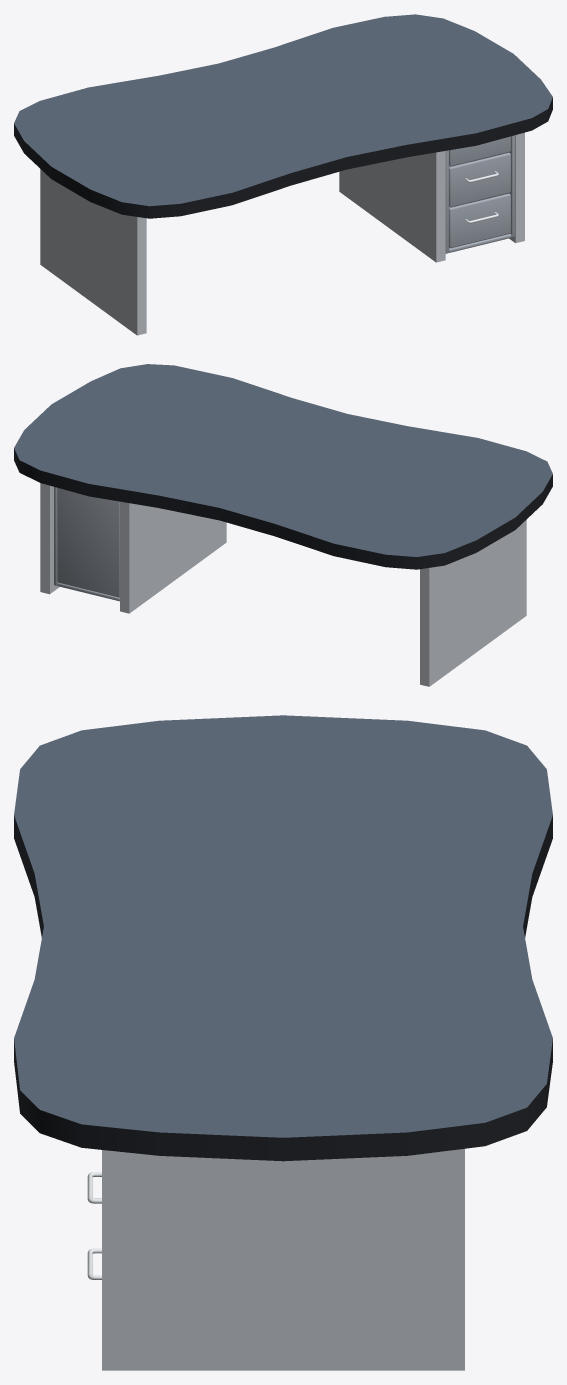
Rendered from escrivaninha_gaveteiro_cassino_pacote.glb.
3 views of the same model, one above another, from view 1: azimuth 30°, elevation 25°; view 2: azimuth 150°, elevation 25°; view 3: azimuth 270°, elevation 25° (orthographic). The views are drawn at different scales.
Parts seen in each view (by area): view 1: escrivaninha_gaveteiro_cassino_pacote, gaveta_2, gaveta_1, gaveta_3; view 2: escrivaninha_gaveteiro_cassino_pacote; view 3: escrivaninha_gaveteiro_cassino_pacote.
Boxes of the visible parts, x1,y1,x2,y2 form: escrivaninha_gaveteiro_cassino_pacote: [14, 14, 552, 335]; gaveta_2: [449, 152, 510, 207]; gaveta_1: [449, 193, 510, 248]; gaveta_3: [449, 136, 510, 166]; escrivaninha_gaveteiro_cassino_pacote: [14, 364, 552, 686]; escrivaninha_gaveteiro_cassino_pacote: [14, 715, 552, 1370].
Size of the model in its own units: 2.54 by 0.7491 by 1.37.
1 material, 1 textured.
